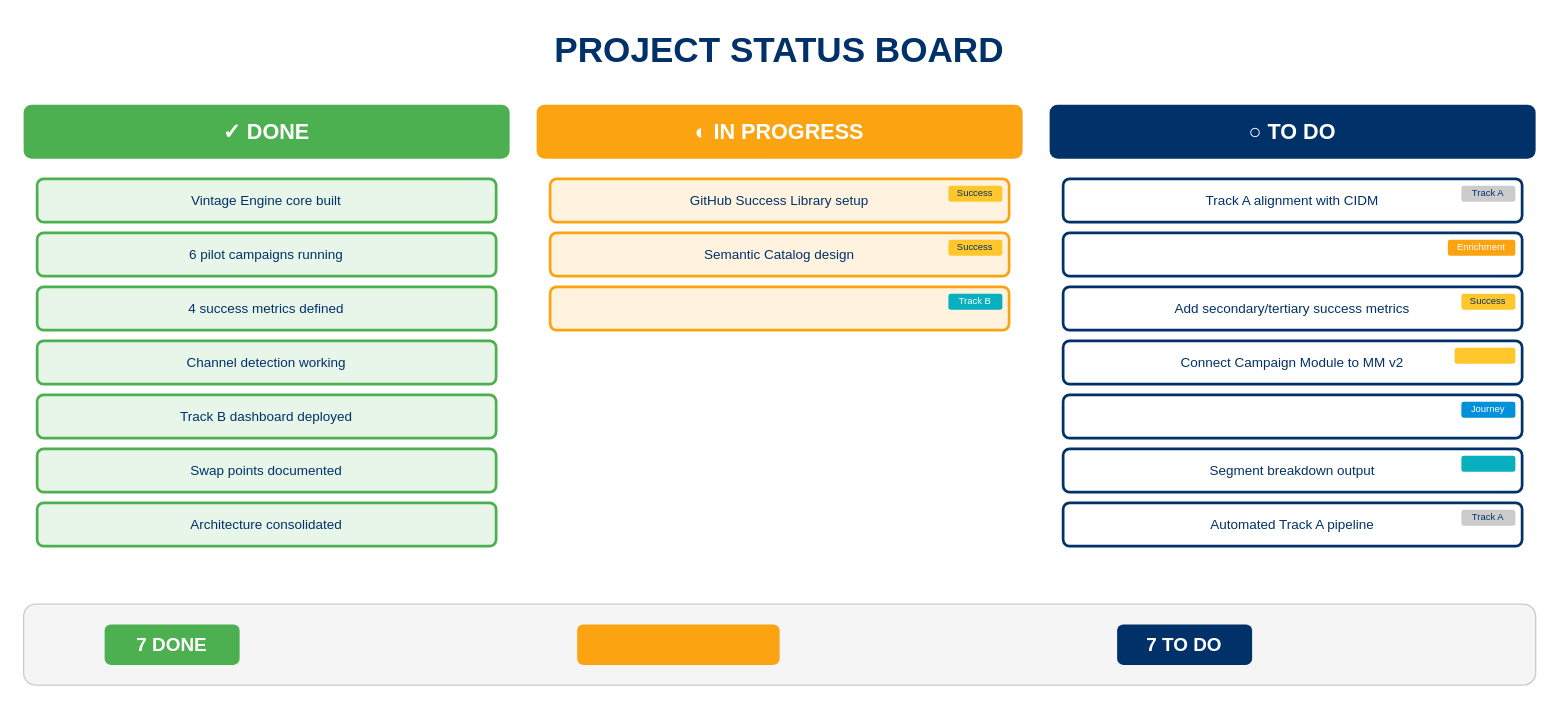
Image size: 1559x709. Some labels were removed from this diagram. Each missing label, with the box of its shape:
3 IN PROGRESS: (576, 624, 779, 664)
Campaign: (1454, 347, 1515, 363)
Email engagement curves: (1061, 393, 1523, 439)
Enrichment catalog build: (1061, 231, 1523, 277)
Output: (1461, 455, 1515, 471)
Track B refresh process documentation: (548, 285, 1010, 331)
